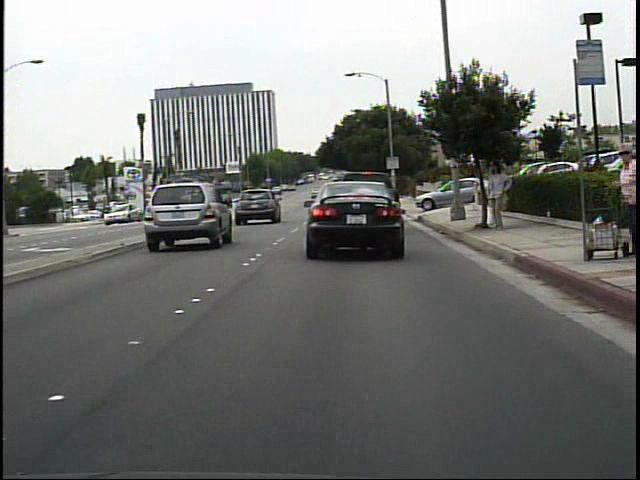person: (606, 141, 638, 259), (482, 158, 515, 234)
